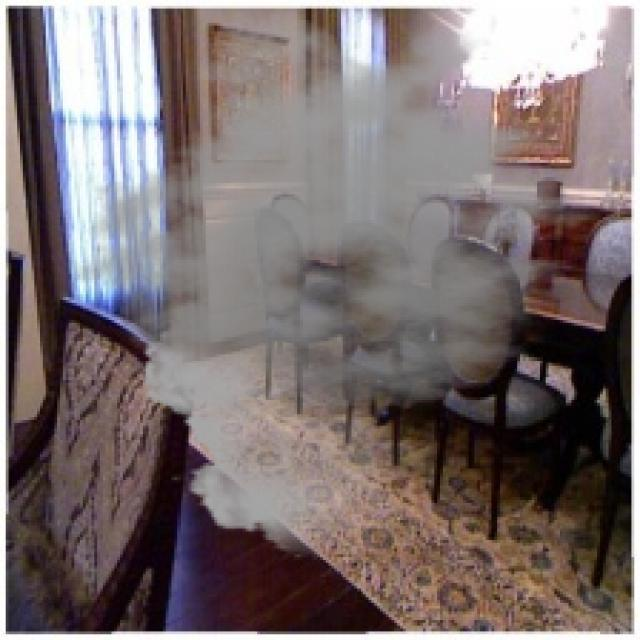Smoke: (71, 8, 628, 560)
